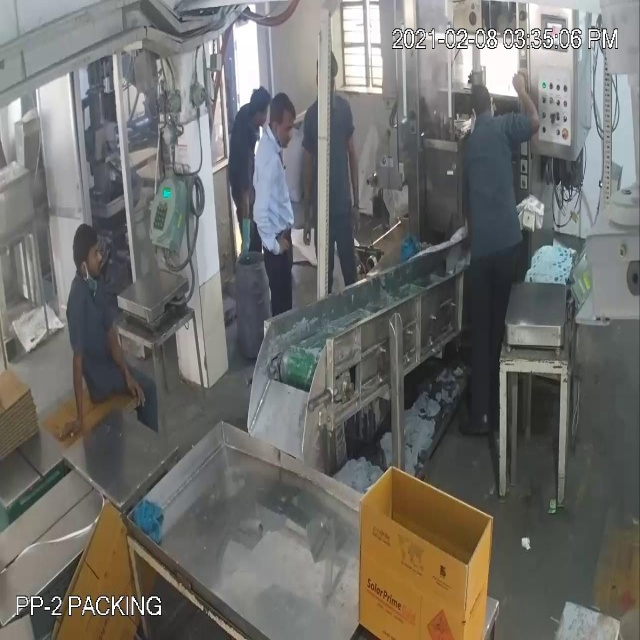Guantes: (230, 188, 260, 278)
Sin_guantes: (101, 307, 153, 415), (57, 334, 89, 451), (251, 177, 288, 269), (342, 127, 371, 236), (299, 133, 320, 249), (510, 60, 539, 140)
